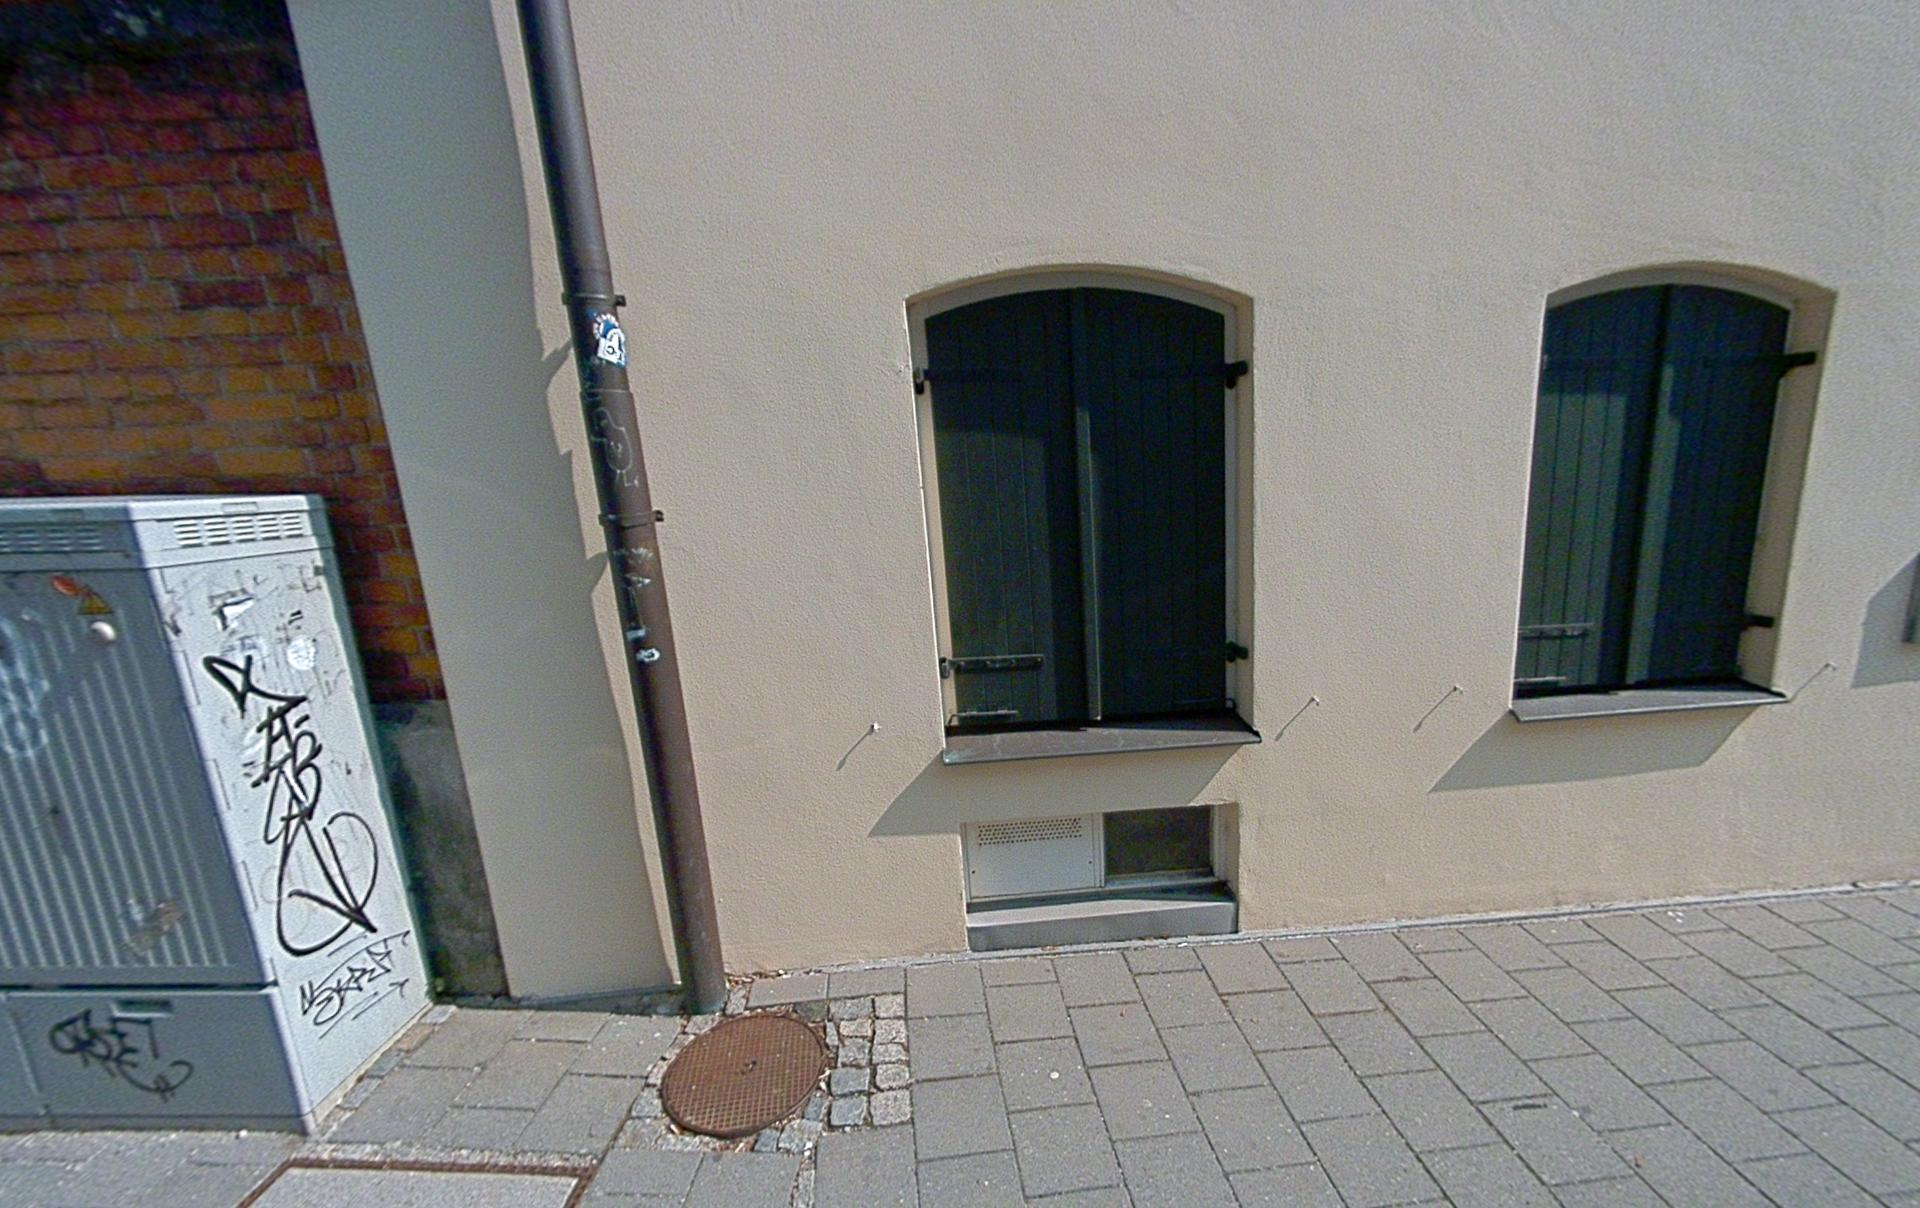traffic sign: (589, 309, 629, 369)
